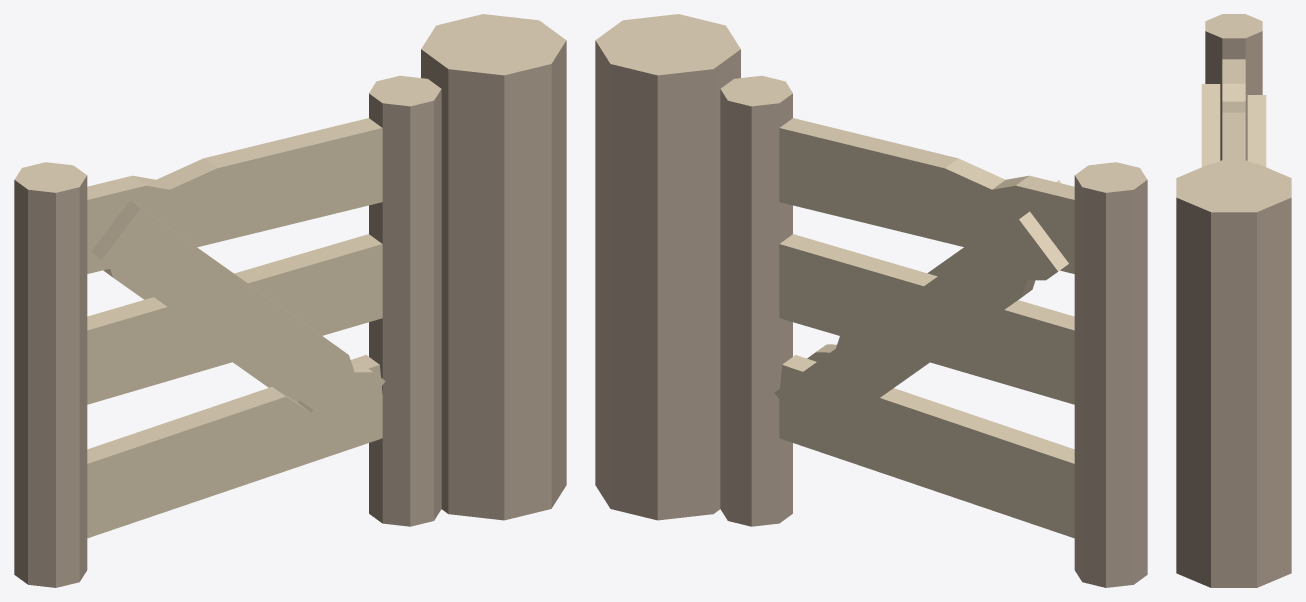
The model's file is Prop_Fence_Gate_1.glb.
3 views of the same model, side by side, from view 1: azimuth 30°, elevation 25°; view 2: azimuth 150°, elevation 25°; view 3: azimuth 270°, elevation 25° (orthographic). The views are drawn at different scales.
Visible parts, largest first — view 1: object1, object8, object2, object7, object5, object6, object3, object4; view 2: object1, object8, object2, object5, object7, object4, object3, object6; view 3: object1, object8, object5, object6, object4.
Boxes of the visible parts, x1,y1,x2,y2 form: object1: (421, 14, 566, 520); object8: (14, 162, 87, 587); object2: (369, 75, 441, 526); object7: (87, 355, 382, 538); object5: (87, 118, 382, 273); object6: (91, 200, 385, 433); object3: (87, 234, 382, 404); object4: (103, 268, 299, 402); object1: (595, 14, 740, 520); object8: (1074, 162, 1147, 587); object2: (720, 75, 792, 526); object5: (779, 118, 1074, 273); object7: (779, 355, 1074, 538); object4: (774, 211, 1068, 444); object3: (779, 234, 1074, 404); object6: (807, 180, 1061, 361); object1: (1176, 163, 1291, 587); object8: (1205, 14, 1262, 160); object5: (1222, 59, 1245, 159); object6: (1201, 84, 1220, 166); object4: (1247, 95, 1266, 166).
Bounding box in the file's own units: 1.12 × 0.9 × 0.25.
